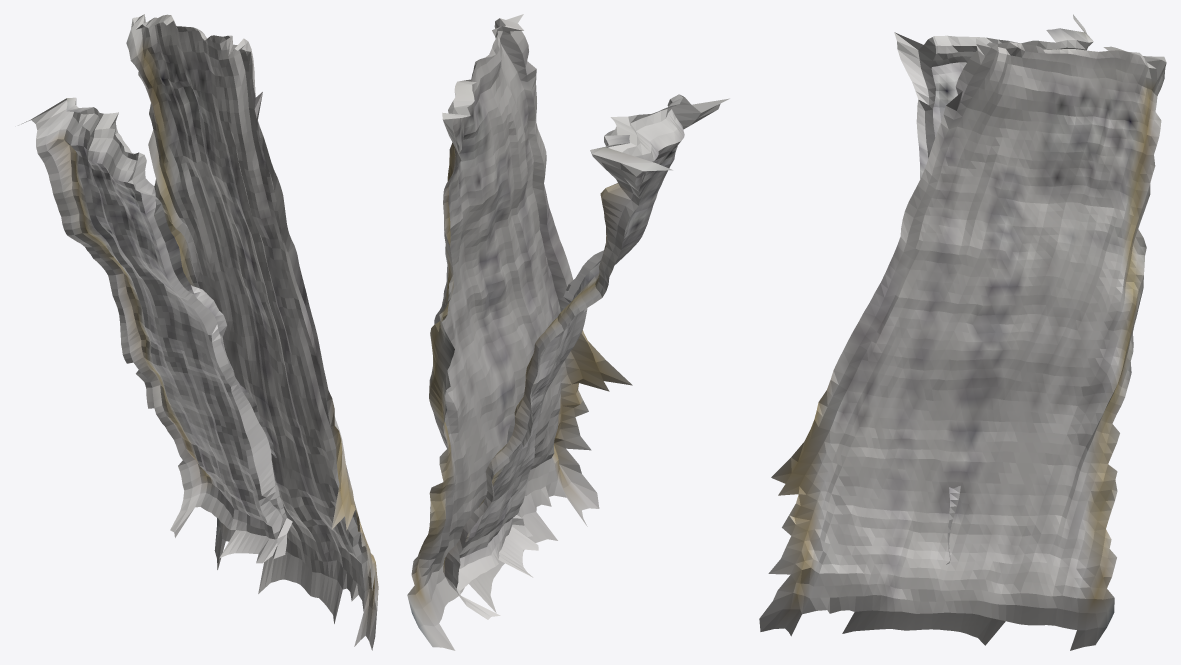
Rendered from entity-sign-12.glb.
3 views of the same model, side by side, from view 1: azimuth 30°, elevation 25°; view 2: azimuth 150°, elevation 25°; view 3: azimuth 270°, elevation 25° (orthographic). The views are drawn at different scales.
Parts seen in each view (by area): view 1: geometry_0; view 2: geometry_0; view 3: geometry_0.
Boxes of the visible parts, box(x1,y1,x2,y2) form: geometry_0: box(18, 14, 378, 650); geometry_0: box(407, 14, 729, 650); geometry_0: box(759, 14, 1166, 650).
Size of the model in its own units: 0.385 by 0.8654 by 0.5298.
